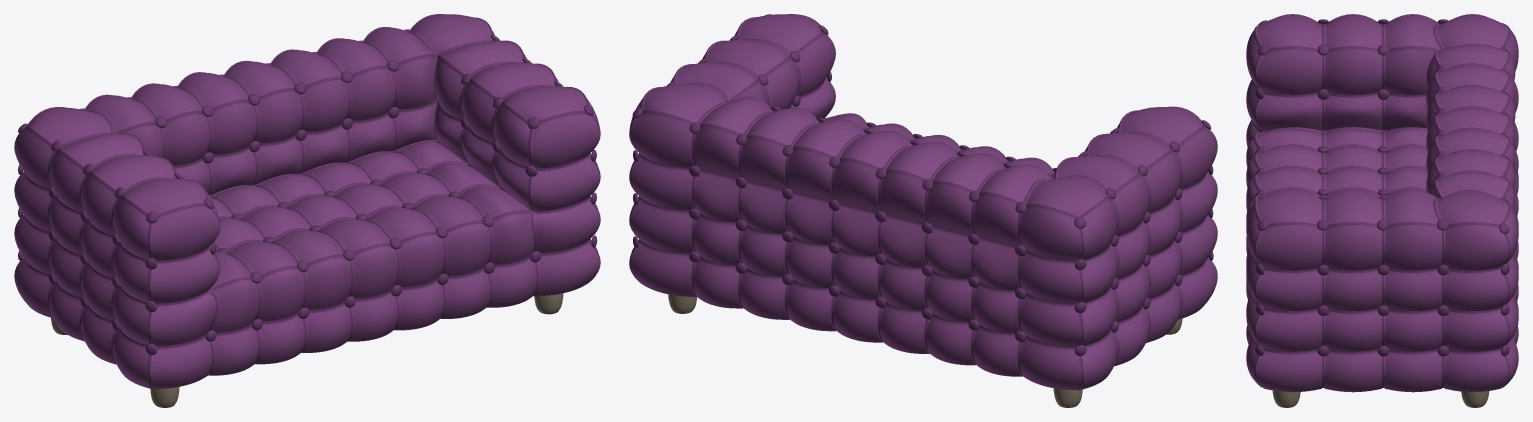
The model's file is chesterfield_sofa_with_buttons.glb.
3 views of the same model, side by side, from view 1: azimuth 30°, elevation 25°; view 2: azimuth 150°, elevation 25°; view 3: azimuth 270°, elevation 25° (orthographic). The views are drawn at different scales.
Parts seen in each view (by area): view 1: chesterfield sofa; view 2: chesterfield sofa; view 3: chesterfield sofa.
Part boxes in pixels (bbox=[...]): chesterfield sofa: bbox=[14, 14, 600, 407]; chesterfield sofa: bbox=[629, 14, 1217, 407]; chesterfield sofa: bbox=[1246, 14, 1518, 407].
Size of the model in its own units: 1.72 by 0.7576 by 0.9152.
